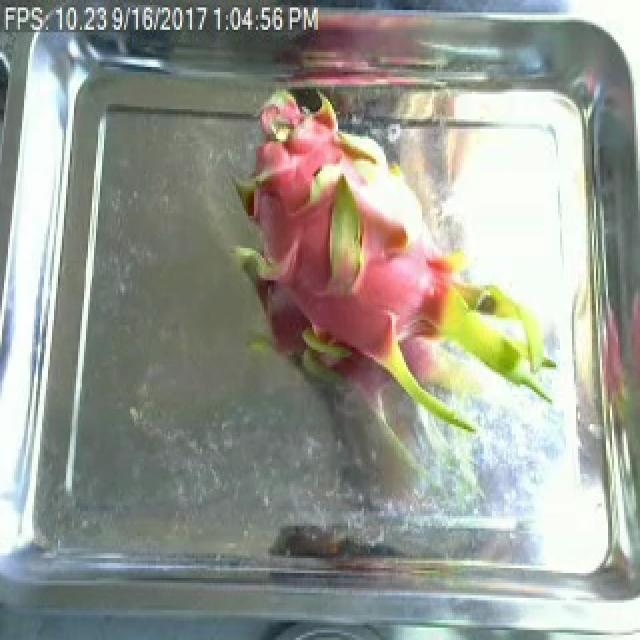fruit: (214, 72, 572, 466)
